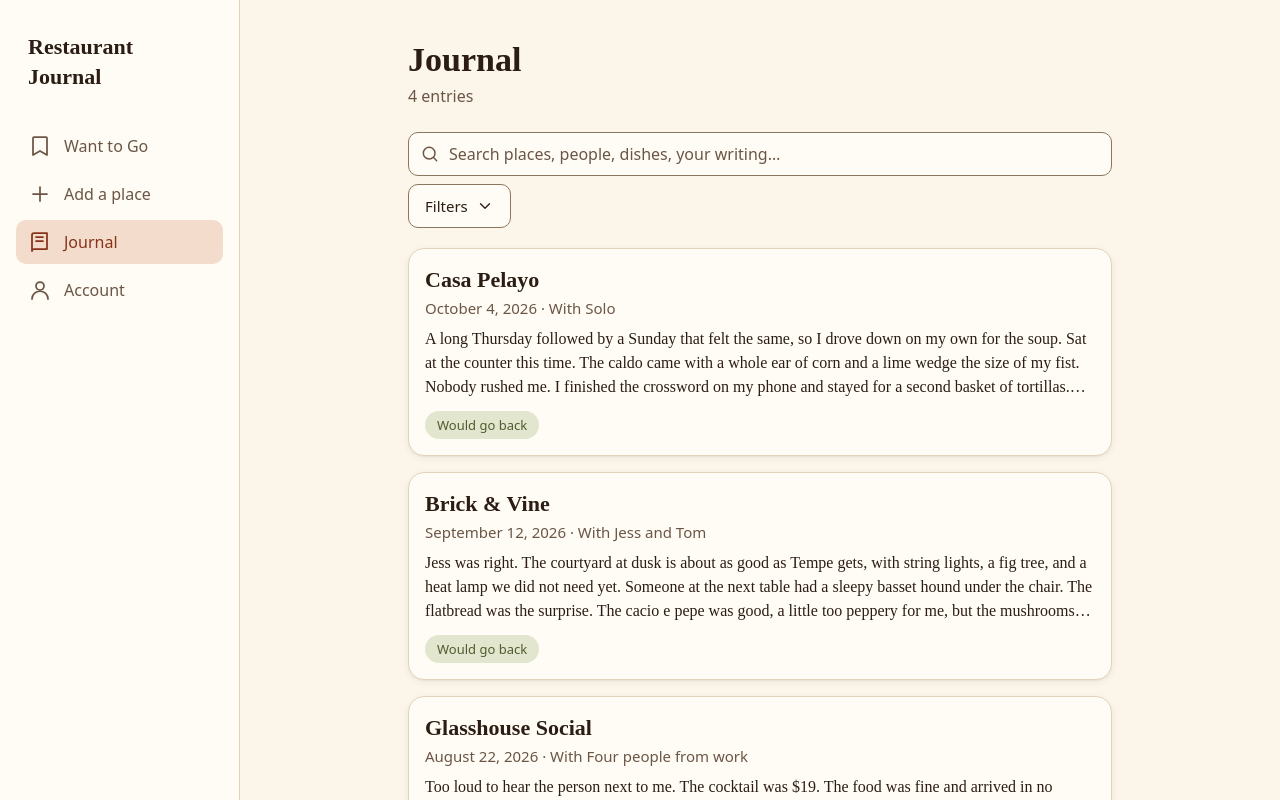
Journal search and filters › shows a no-matches state
Expected: the text "4 entries" is shown, [408, 85, 473, 107]
Type "zzzz" into the search field named "Search your journal" at {"x": 760, "y": 154}, box [408, 132, 1112, 176]
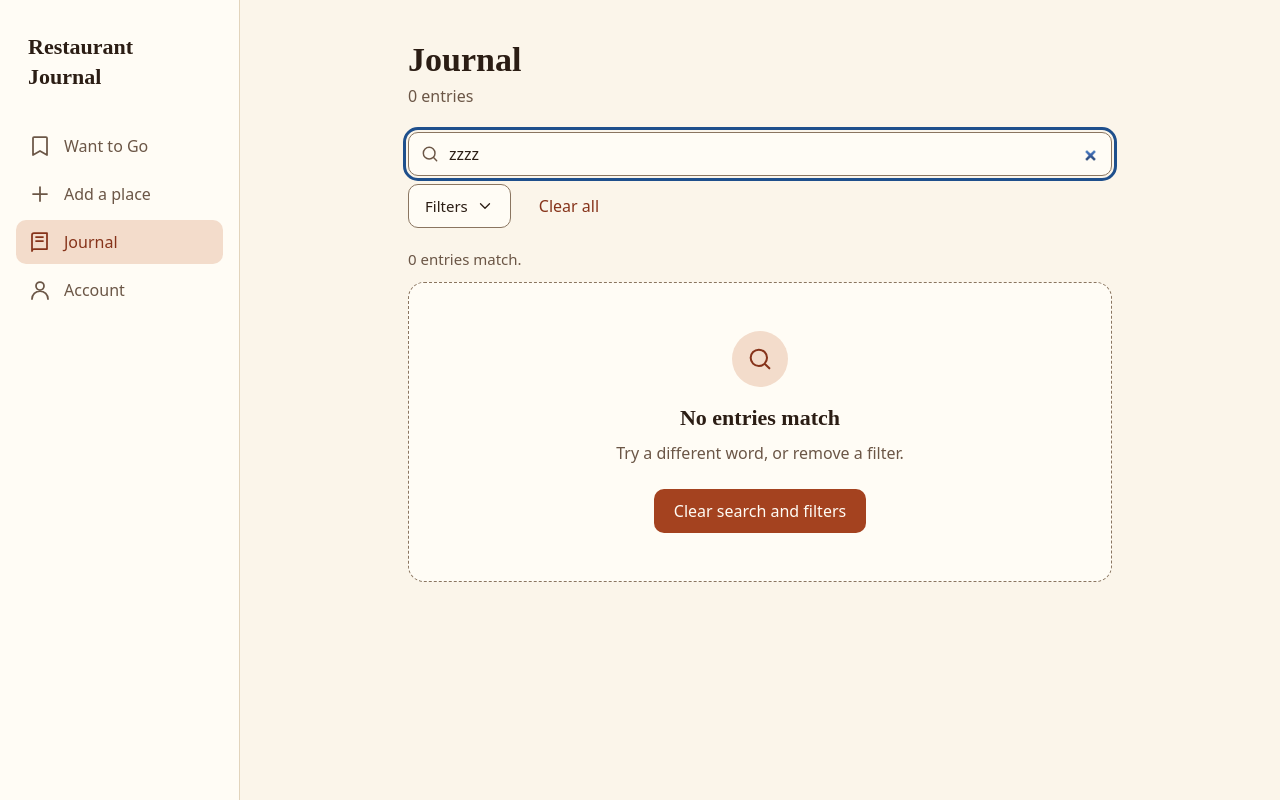
Expected: the heading "No entries match" is shown, [680, 403, 840, 433]
